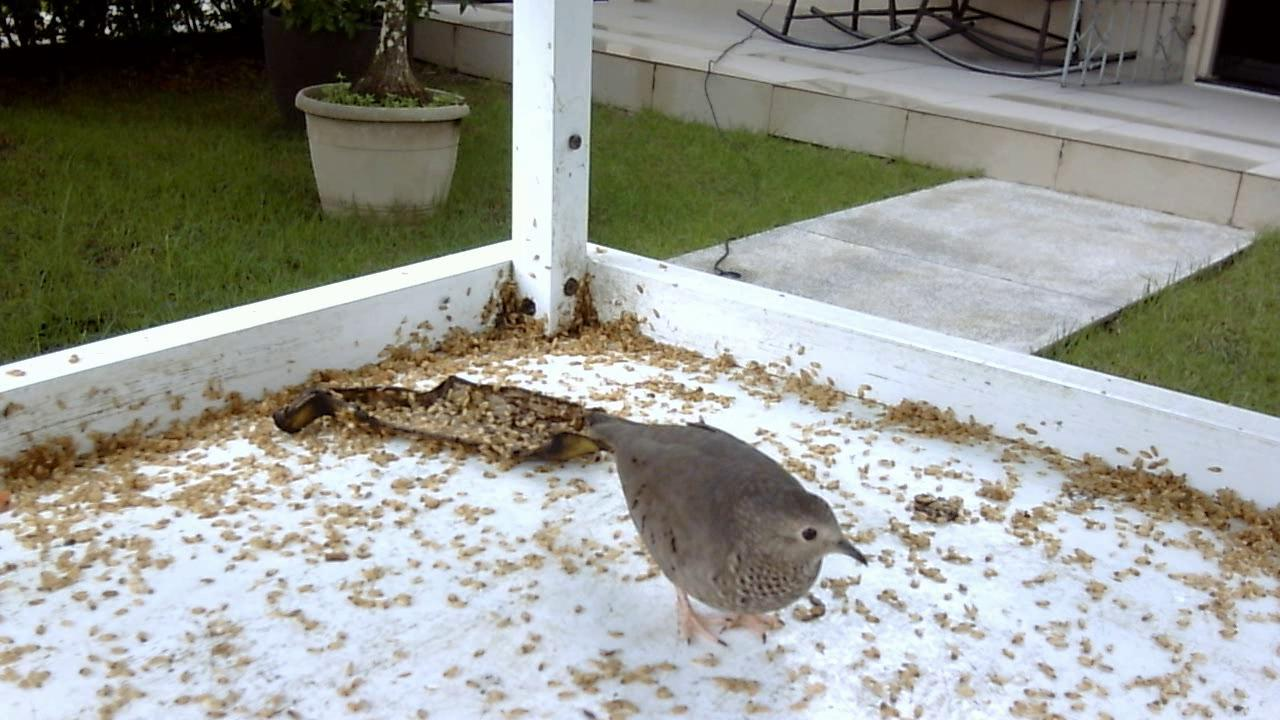rolinha: (570, 397, 871, 666)
